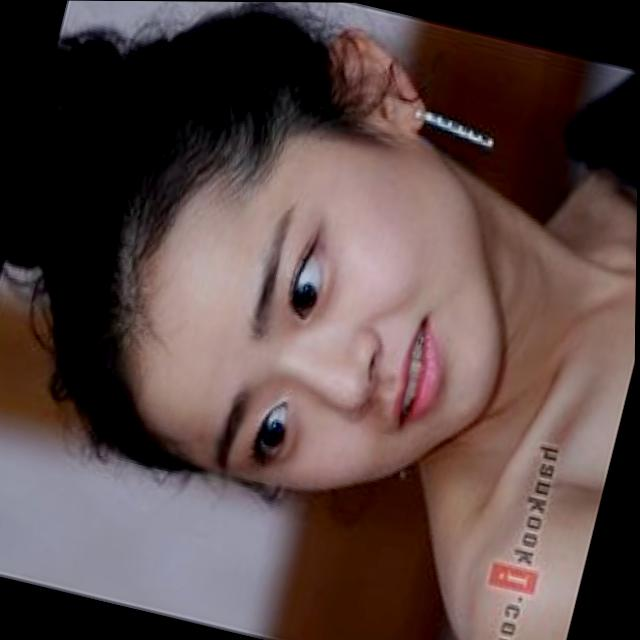face: (95, 86, 550, 540)
